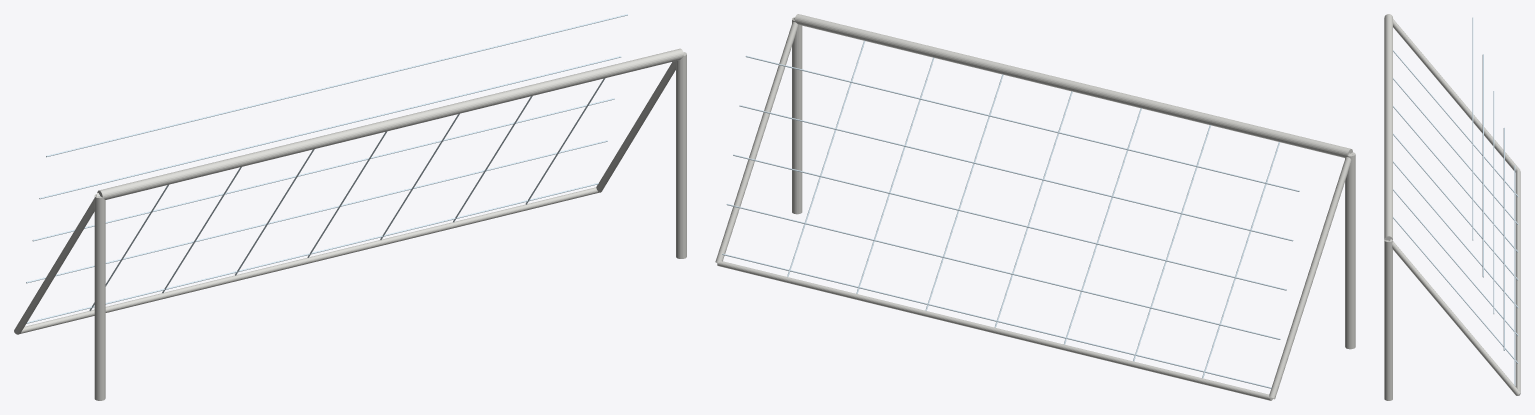
File: goal.glb
The picture shows the model from 3 angles, left to right: view 1: azimuth 30°, elevation 25°; view 2: azimuth 150°, elevation 25°; view 3: azimuth 270°, elevation 25°; orthographic projection. The views are drawn at different scales.
Parts seen in each view (by area): view 1: Crossbar, BackBottom, LeftPost, RightPost, NetHorizontal_3, NetHorizontal_4, NetHorizontal_0, NetHorizontal_2, NetHorizontal_1, LeftBackSupport, RightBackSupport; view 2: Crossbar, BackBottom, LeftPost, RightPost, LeftBackSupport, RightBackSupport, NetHorizontal_4, NetHorizontal_3, NetHorizontal_1, NetHorizontal_2, NetHorizontal_0; view 3: Crossbar, RightPost, BackBottom, RightBackSupport, LeftBackSupport, NetHorizontal_4, NetHorizontal_1, NetHorizontal_2, NetHorizontal_3, NetHorizontal_0, NetVertical_6, NetVertical_7 (+5 smaller).
Part boxes in pixels (x1,y1,x2,y2): Crossbar: (97,48,683,199); BackBottom: (20,187,598,333); LeftPost: (94,194,105,400); RightPost: (676,52,686,258); NetHorizontal_3: (39,56,621,199); NetHorizontal_4: (46,14,627,157); NetHorizontal_0: (26,183,598,323); NetHorizontal_2: (32,98,614,241); NetHorizontal_1: (26,140,607,283); LeftBackSupport: (14,193,99,334); RightBackSupport: (596,52,683,192); Crossbar: (794,14,1352,157); BackBottom: (717,261,1272,400); LeftPost: (1345,152,1355,349); RightPost: (792,17,802,214); LeftBackSupport: (1269,153,1352,399); RightBackSupport: (715,18,797,262); NetHorizontal_4: (745,55,1299,191); NetHorizontal_3: (739,105,1293,241); NetHorizontal_1: (726,204,1280,339); NetHorizontal_2: (733,154,1286,290); NetHorizontal_0: (722,253,1271,388); Crossbar: (1384,14,1392,240); RightPost: (1384,240,1392,400); BackBottom: (1515,170,1520,395); RightBackSupport: (1388,239,1520,395); LeftBackSupport: (1393,19,1520,172); NetHorizontal_4: (1472,17,1473,240); NetHorizontal_1: (1503,127,1504,350); NetHorizontal_2: (1493,91,1494,314); NetHorizontal_3: (1482,54,1483,277); NetHorizontal_0: (1514,165,1515,385); NetVertical_6: (1393,189,1518,335); NetVertical_7: (1393,217,1518,363).
Bounding box in the file's own units: 7.44 × 2.5 × 1.89.
